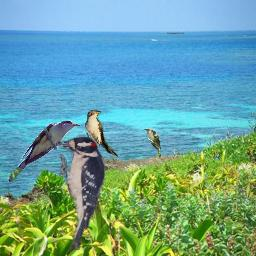Cuckoo: (8, 120, 80, 182), (85, 110, 118, 158), (143, 128, 162, 159)
Woodpecker: (56, 134, 107, 250)
